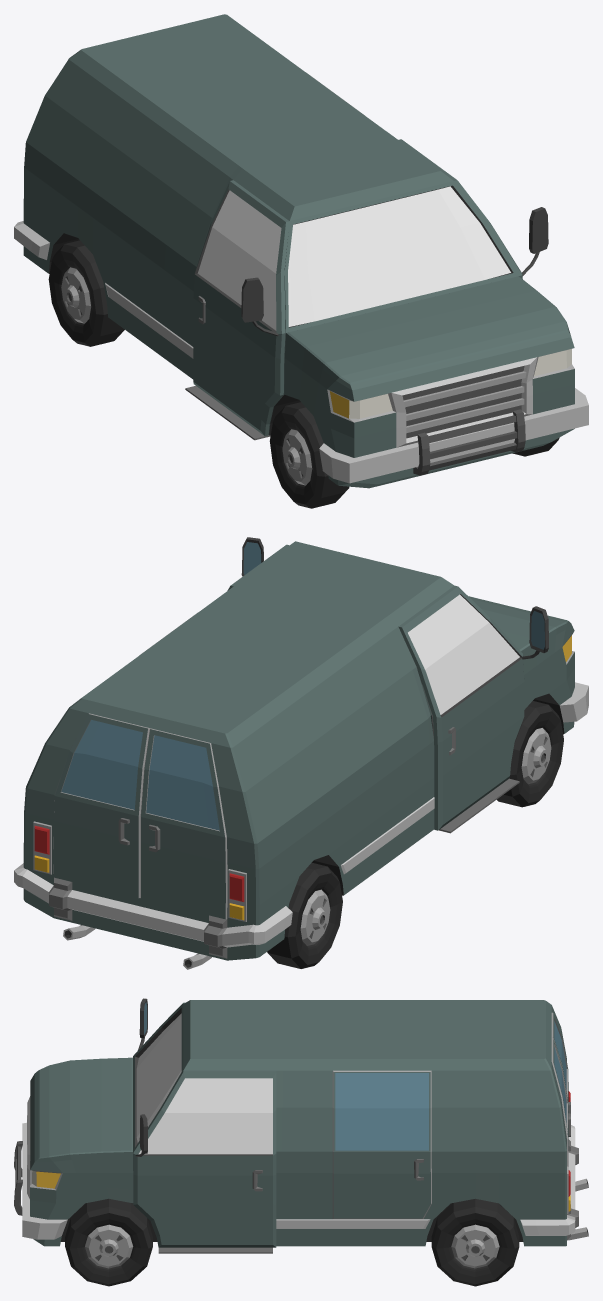
The model's file is Van_03.fbx.
3 views of the same model, one above another, from view 1: azimuth 30°, elevation 25°; view 2: azimuth 150°, elevation 25°; view 3: azimuth 270°, elevation 25° (orthographic). The views are drawn at different scales.
Parts seen in each view (by area): view 1: Van_03, Van_01_DoorL.002, Wheel_Big_RearR.002, Wheel_Big_FrontR.002, Van_01_DoorL.001; view 2: Van_03, Van_01_DoorL.002, Wheel_Big_RearR.002, Wheel_Big_FrontR.002, Van_01_DoorL.001; view 3: Van_03, Van_01_DoorL.001, Wheel_Big_RearL.002, Wheel_Big_FrontL.002, Van_01_DoorL.002.
Boxes of the visible parts, x1,y1,x2,y2 form: Van_03: (14,14,588,488); Van_01_DoorL.002: (193,180,289,435); Wheel_Big_RearR.002: (48,240,124,346); Wheel_Big_FrontR.002: (269,402,349,508); Van_01_DoorL.001: (399,139,548,278); Van_03: (14,541,588,969); Van_01_DoorL.002: (398,585,548,830); Wheel_Big_RearR.002: (267,862,342,968); Wheel_Big_FrontR.002: (497,701,563,807); Van_01_DoorL.001: (227,537,289,590); Van_03: (14,1000,588,1253); Van_01_DoorL.001: (133,1070,276,1247); Wheel_Big_RearL.002: (431,1198,519,1286); Wheel_Big_FrontL.002: (65,1198,152,1286); Van_01_DoorL.002: (133,998,185,1057).
Size of the model in its own units: 336 by 265 by 660.
